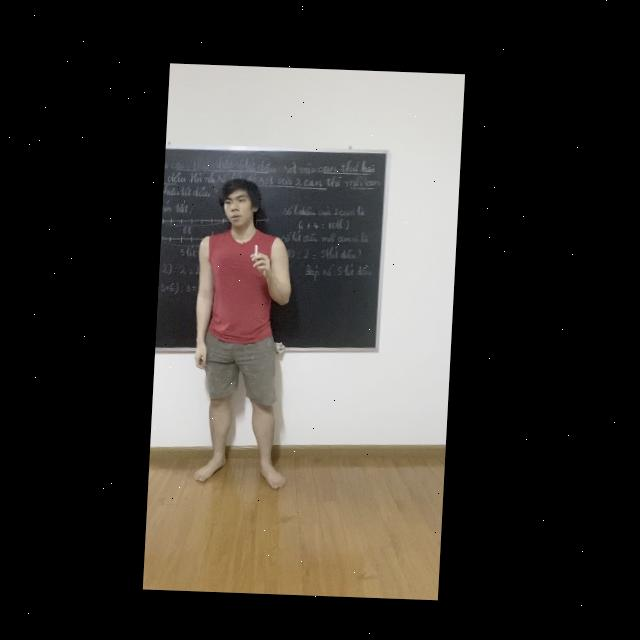cigarette: (257, 243, 260, 253)
